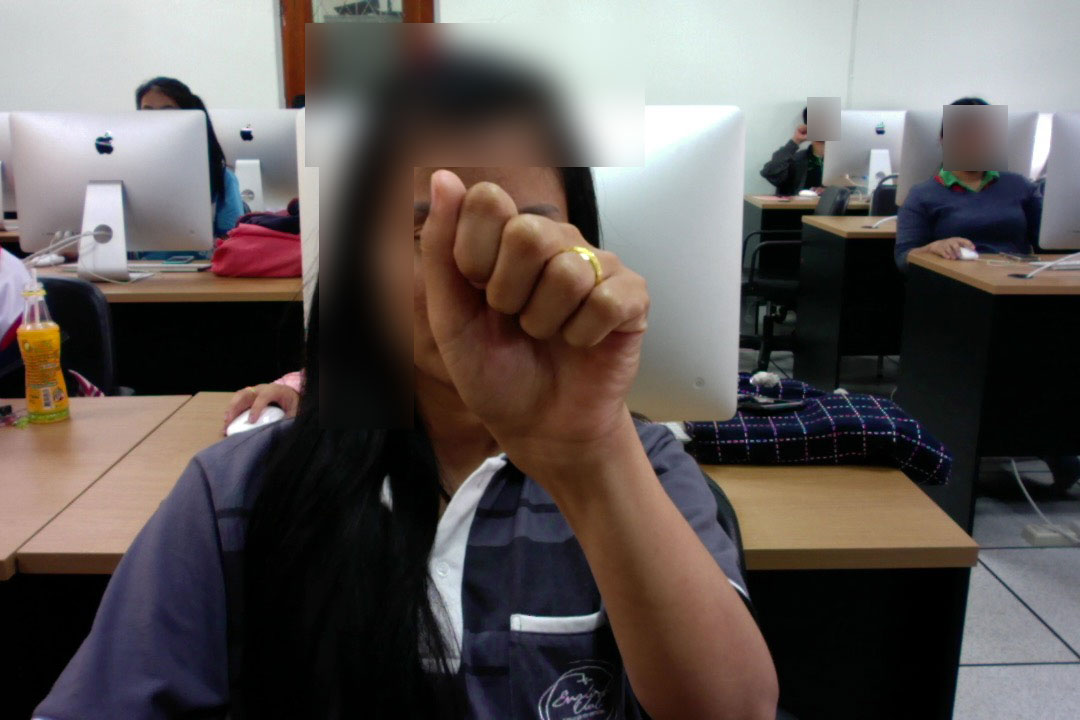or: (412, 158, 660, 475)
